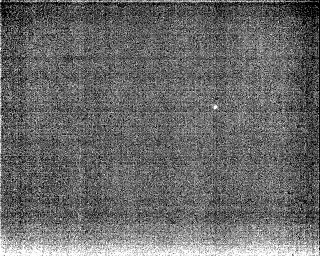BIRD: (211, 102, 220, 113)
